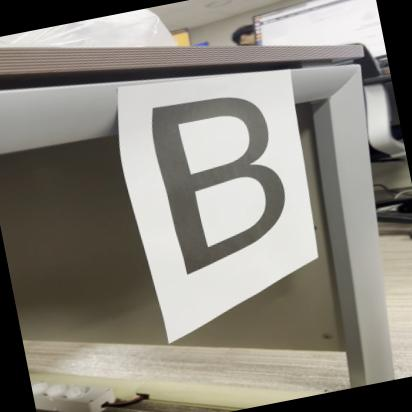seat: (140, 84, 306, 296)
